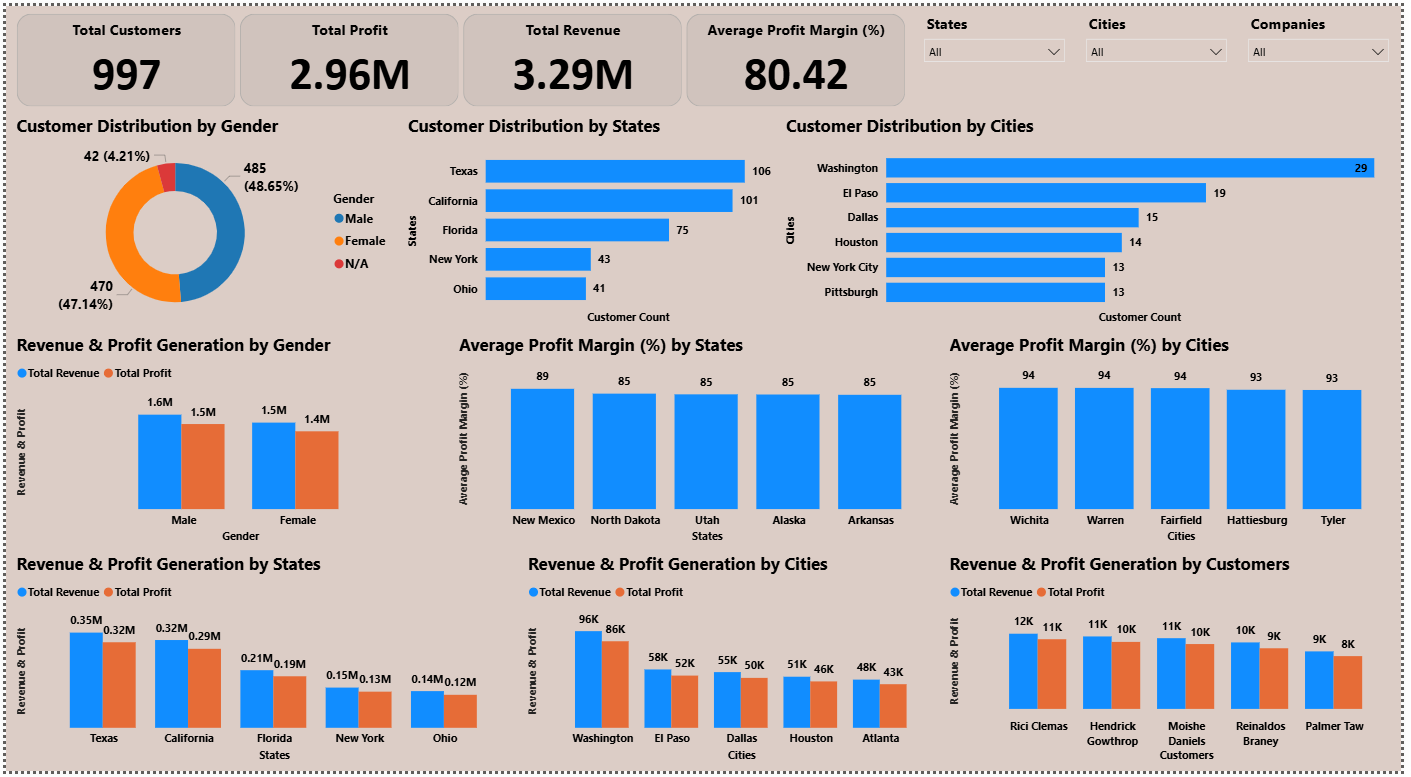

Layout of this report page (visuals, bound fields, positions):
{"tool":"powerbi","page":{"name":"Customer Demographics & Geography Insights","canvas":[1550,850],"ordinal":0},"visuals":[{"type":"donutChart","title":"Customer Distribution by Gender","fields":{"Category":["customers products purchases.gender"],"Y":["customers products purchases.customer_id"]},"box":[6.7,120,430,238.3],"z":0},{"type":"clusteredBarChart","title":"Customer Distribution by States","fields":{"Category":["customers products purchases.state"],"Y":["customers_products_purchases.customer_id"]},"box":[441.7,120,413.3,238.3],"z":1000},{"type":"clusteredBarChart","title":"Customer Distribution by Cities","fields":{"Category":["customers products purchases.city"],"Y":["customers_products_purchases.customer_id"]},"box":[861.7,120,685,238.3],"z":2000},{"type":"cardVisual","fields":{"Data":["customers_products_purchases.Customers","customers products purchases.Total Profit","customers products purchases.Total Revenue","customers_products_purchases.Average Profit Margin"]},"box":[6.7,3.3,1000,113.3],"z":3000},{"type":"clusteredColumnChart","title":" Revenue & Profit Generation by Gender","fields":{"Y":["customers products purchases.revenue","customers products purchases.profit"],"Category":["customers products purchases.gender"]},"box":[6.7,363.3,486.7,238.3],"z":4000},{"type":"clusteredColumnChart","title":"Revenue & Profit Generation by States","fields":{"Category":["customers products purchases.state"],"Y":["customers products purchases.revenue","customers products purchases.profit"]},"box":[6.7,606.7,561.7,238],"z":5000},{"type":"clusteredColumnChart","title":"Revenue & Profit Generation by Cities","fields":{"Category":["customers products purchases.city"],"Y":["customers products purchases.revenue","customers products purchases.profit"]},"box":[575,606.7,463.3,238],"z":6000},{"type":"clusteredColumnChart","title":"Revenue & Profit Generation by Customers","fields":{"Category":["customers products purchases.full_name"],"Y":["customers products purchases.revenue","customers_products_purchases.profit"]},"box":[1043.3,606.7,503.3,238],"z":7000},{"type":"clusteredColumnChart","fields":{"Category":["customers_products_purchases.state"],"Y":["customers_products_purchases.profit_margin"]},"box":[498.3,363.3,540,238.3],"z":8000},{"type":"clusteredColumnChart","fields":{"Category":["customers_products_purchases.city"],"Y":["customers_products_purchases.profit_margin"]},"box":[1043.3,363.3,503.3,238.3],"z":9000},{"type":"slicer","fields":{"Values":["customers products purchases.state"]},"box":[1010,3.3,176.7,111.7],"z":10000},{"type":"slicer","fields":{"Values":["customers products purchases.city"]},"box":[1190,3.3,176.7,111.7],"z":11000},{"type":"slicer","fields":{"Values":["customers products purchases.company"]},"box":[1370,3.3,176.7,111.7],"z":12000}]}

Visuals, with their boxes in screenshot pixels (x1, y1, x2, y2), scaled from the page's 1550x850 canvas onto the 1411x777 screenshot:
"Customer Distribution by Gender" donutChart: [x1=6, y1=110, x2=398, y2=328]
"Customer Distribution by States" clusteredBarChart: [x1=402, y1=110, x2=778, y2=328]
"Customer Distribution by Cities" clusteredBarChart: [x1=784, y1=110, x2=1408, y2=328]
cardVisual - customers_products_purchases.Customers x customers products purchases.Total Profit: [x1=6, y1=3, x2=916, y2=107]
" Revenue & Profit Generation by Gender" clusteredColumnChart: [x1=6, y1=332, x2=449, y2=550]
"Revenue & Profit Generation by States" clusteredColumnChart: [x1=6, y1=555, x2=517, y2=772]
"Revenue & Profit Generation by Cities" clusteredColumnChart: [x1=523, y1=555, x2=945, y2=772]
"Revenue & Profit Generation by Customers" clusteredColumnChart: [x1=950, y1=555, x2=1408, y2=772]
clusteredColumnChart - customers_products_purchases.state x customers_products_purchases.profit_margin: [x1=454, y1=332, x2=945, y2=550]
clusteredColumnChart - customers_products_purchases.city x customers_products_purchases.profit_margin: [x1=950, y1=332, x2=1408, y2=550]
slicer - customers products purchases.state: [x1=919, y1=3, x2=1080, y2=105]
slicer - customers products purchases.city: [x1=1083, y1=3, x2=1244, y2=105]
slicer - customers products purchases.company: [x1=1247, y1=3, x2=1408, y2=105]
